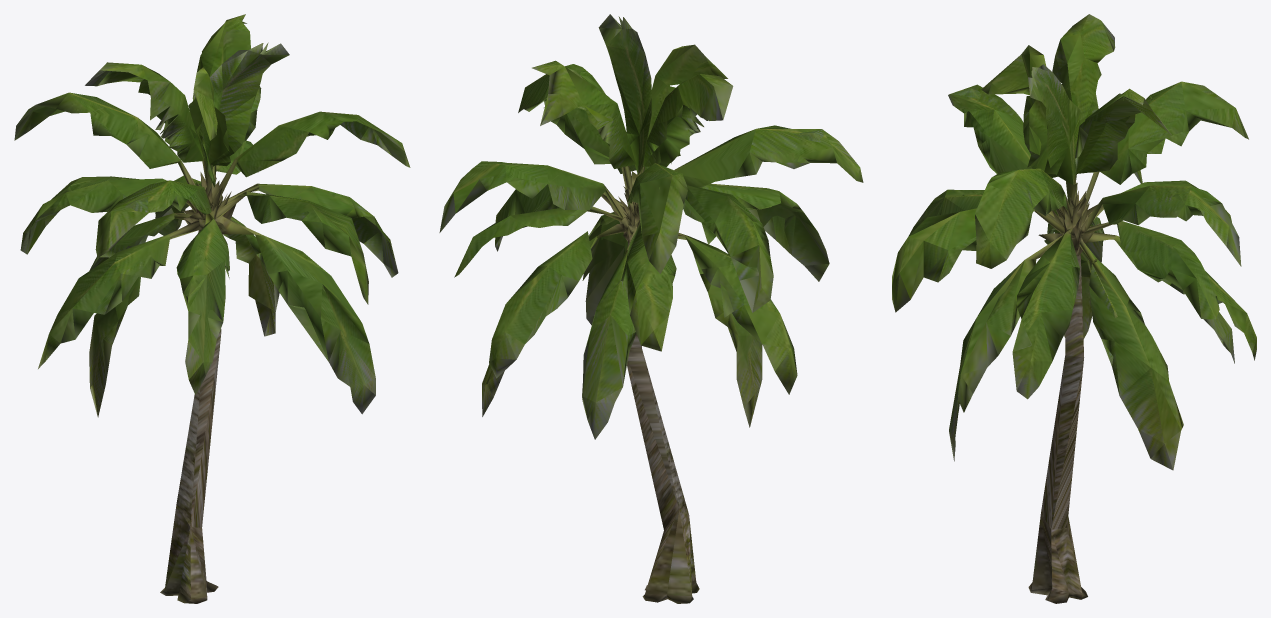
Rendered from VEG_PalmeraTropical_02_LOD2.fbx.
The picture shows the model from 3 angles, left to right: view 1: azimuth 30°, elevation 25°; view 2: azimuth 150°, elevation 25°; view 3: azimuth 270°, elevation 25°; orthographic projection. The views are drawn at different scales.
Visible parts, largest first — view 1: VEG_PalmeraTropical_02_Mesh000; view 2: VEG_PalmeraTropical_02_Mesh000; view 3: VEG_PalmeraTropical_02_Mesh000.
Part boxes in pixels (bbox=[...]): VEG_PalmeraTropical_02_Mesh000: bbox=[14, 14, 410, 603]; VEG_PalmeraTropical_02_Mesh000: bbox=[439, 14, 863, 603]; VEG_PalmeraTropical_02_Mesh000: bbox=[892, 14, 1256, 603].
Bounding box in the file's own units: 6.36 × 10 × 5.97.
